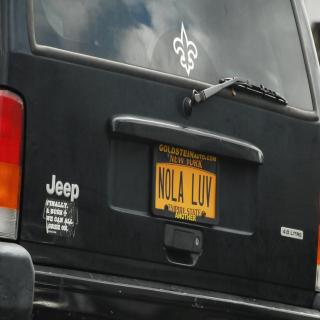license: (152, 144, 221, 224)
